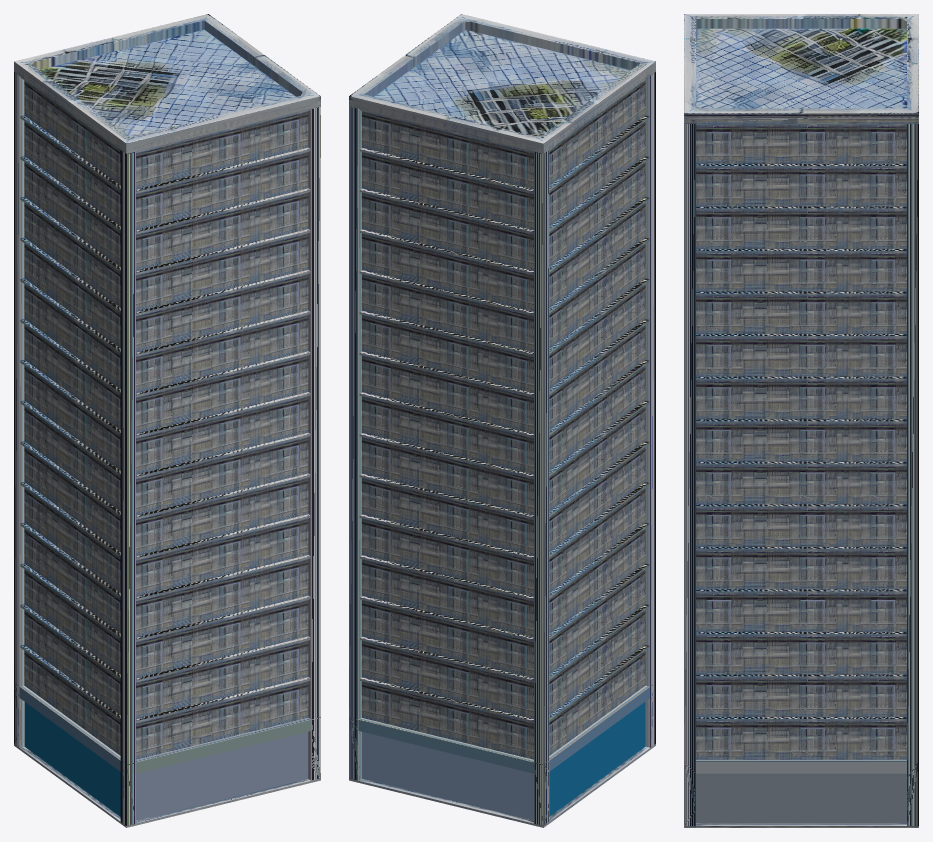
File: simple_skyscraper.glb
3 views of the same model, side by side, from view 1: azimuth 30°, elevation 25°; view 2: azimuth 150°, elevation 25°; view 3: azimuth 270°, elevation 25° (orthographic). The views are drawn at different scales.
Parts seen in each view (by area): view 1: Object_6, Object_8, Object_4, Object_7; view 2: Object_6, Object_8, Object_4, Object_7; view 3: Object_6, Object_8, Object_4, Object_7.
Boxes of the visible parts, <box> form: Object_6: <box>14,14,320,827</box>; Object_8: <box>24,29,308,820</box>; Object_4: <box>20,77,310,722</box>; Object_7: <box>29,88,298,749</box>; Object_6: <box>349,14,655,827</box>; Object_8: <box>361,29,645,820</box>; Object_4: <box>359,77,649,722</box>; Object_7: <box>370,89,640,748</box>; Object_6: <box>684,14,918,827</box>; Object_8: <box>696,28,906,823</box>; Object_4: <box>696,124,906,720</box>; Object_7: <box>706,132,895,749</box>.
Size of the model in its own units: 0.2976 by 1 by 0.2976.
Materials: 5 (5 with a texture image).
